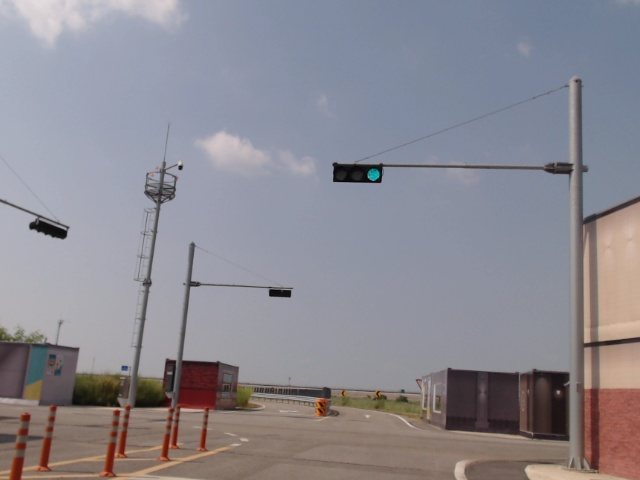green_3: (333, 164, 383, 184)
